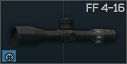Hensoldt FF 4-16x56 scope: (0, 0, 127, 64)
